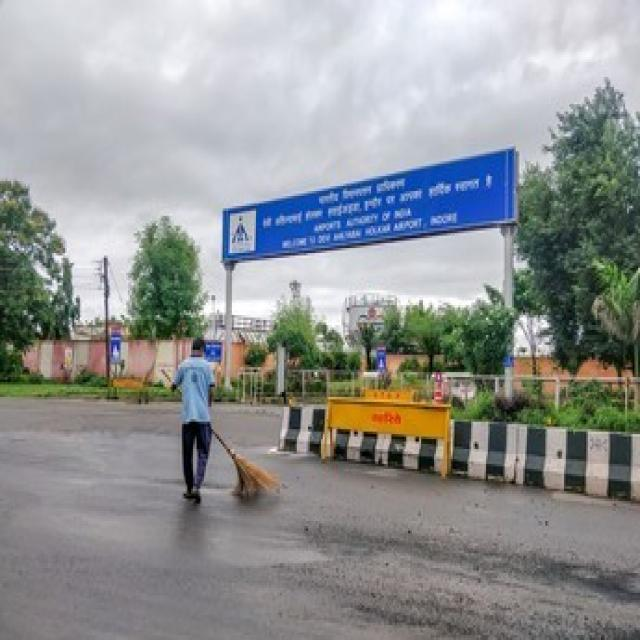Clean road: (0, 367, 640, 638)
